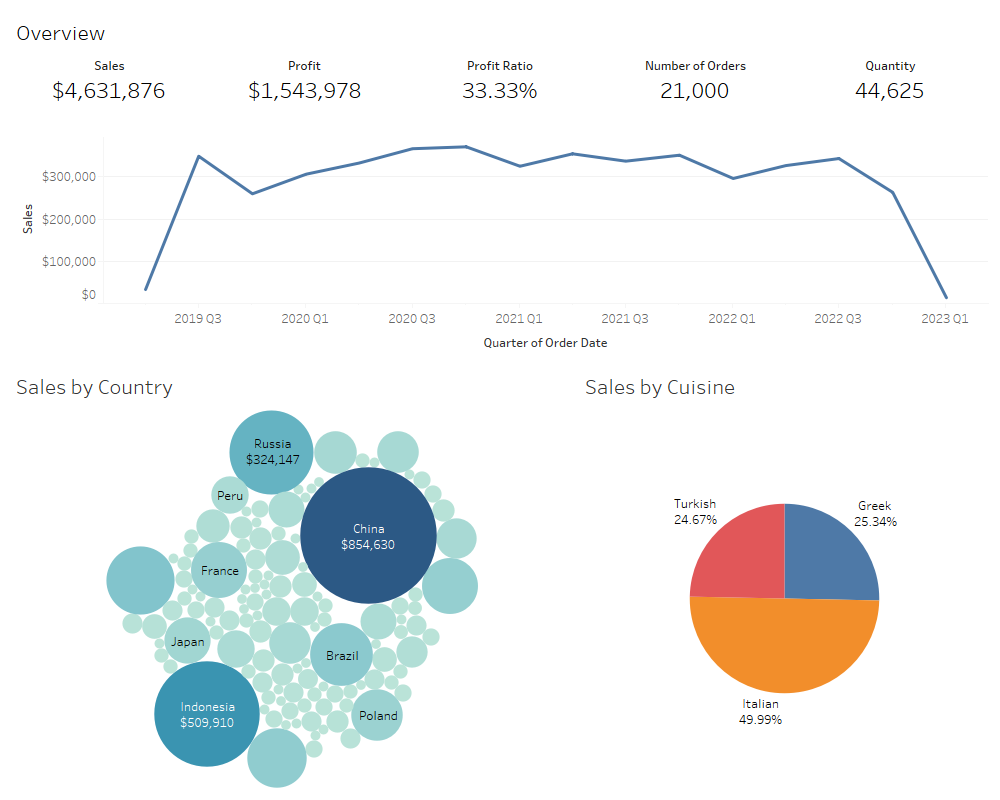

What the dashboard file says about the page in this screenshot:
{"tool":"tableau","page":{"name":"Overview","canvas":[1000,800],"ordinal":1},"visuals":[{"type":"worksheet","title":"Total Sales","mark":"Automatic","box":[8,8,984,125]},{"type":"worksheet","title":"Sales by Year","mark":"Automatic","rows":["Sales"],"cols":["Order Date"],"box":[8,133,984,229]},{"type":"worksheet","title":"Sales by Country","mark":"Circle","box":[8,362,569,430]},{"type":"worksheet","title":"Sales by Cuisine","mark":"Pie","box":[577,362,415,430]}]}

Visuals, with their boxes in screenshot pixels (x1, y1, x2, y2), scaled from the page's 1000x800 canvas onto the 1000x800 screenshot:
"Total Sales" worksheet: 8/8/992/133
"Sales by Year" worksheet: 8/133/992/362
"Sales by Country" worksheet (Circle marks): 8/362/577/792
"Sales by Cuisine" worksheet (Pie marks): 577/362/992/792
